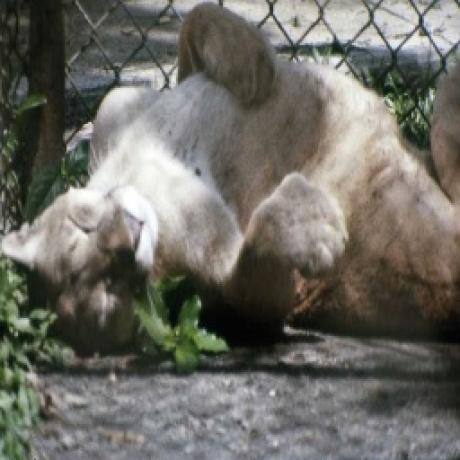Lion: (0, 0, 460, 358)
